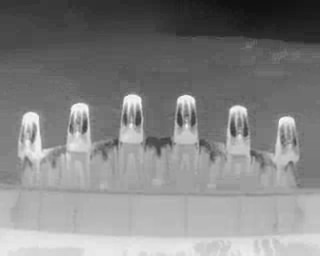claw: (67, 102, 93, 154), (174, 94, 200, 145), (276, 114, 302, 165), (119, 93, 144, 146), (226, 104, 251, 157), (16, 111, 43, 160)
